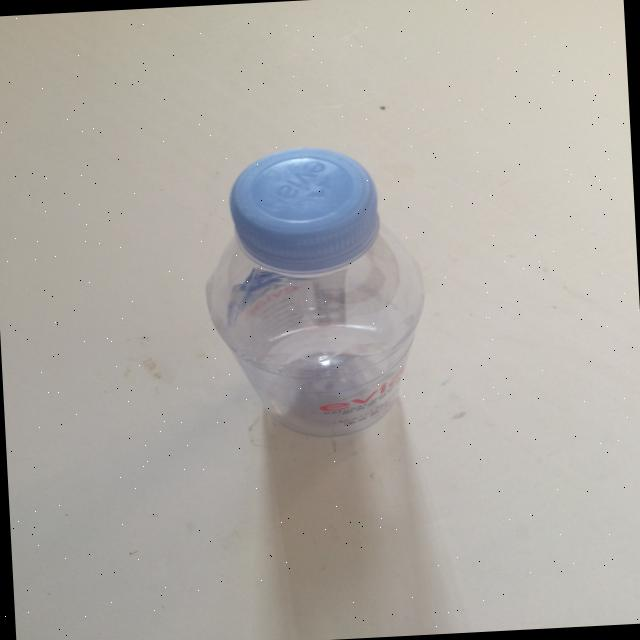plastic: (197, 140, 432, 443)
